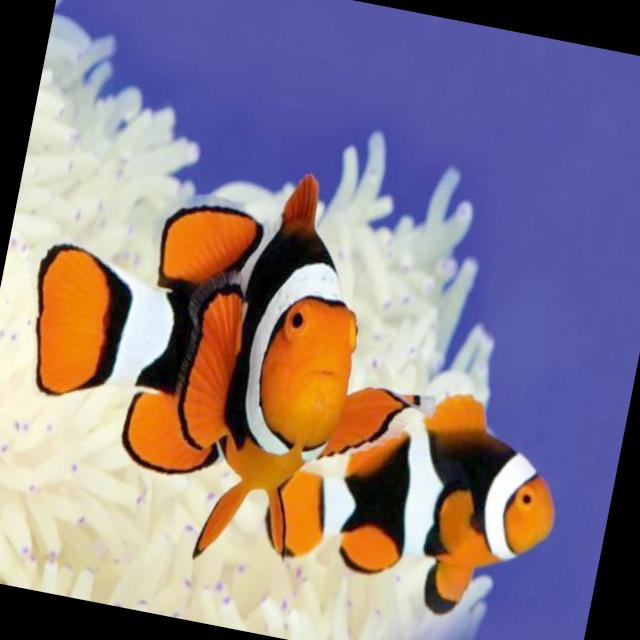ClownFish: (0, 130, 387, 573), (256, 368, 571, 628)
